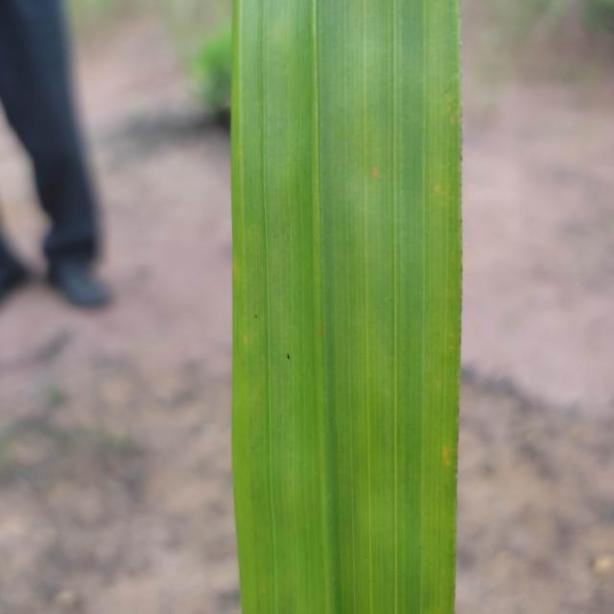nitrogen: (232, 0, 464, 614)
